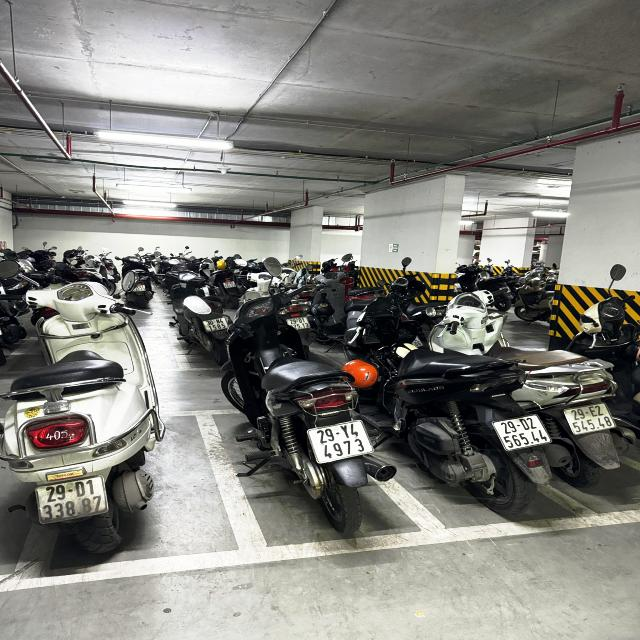license_plate: (37, 476, 110, 522), (308, 421, 375, 464), (494, 416, 554, 451), (564, 403, 618, 434), (203, 318, 230, 332), (288, 318, 311, 331), (224, 282, 237, 289)
